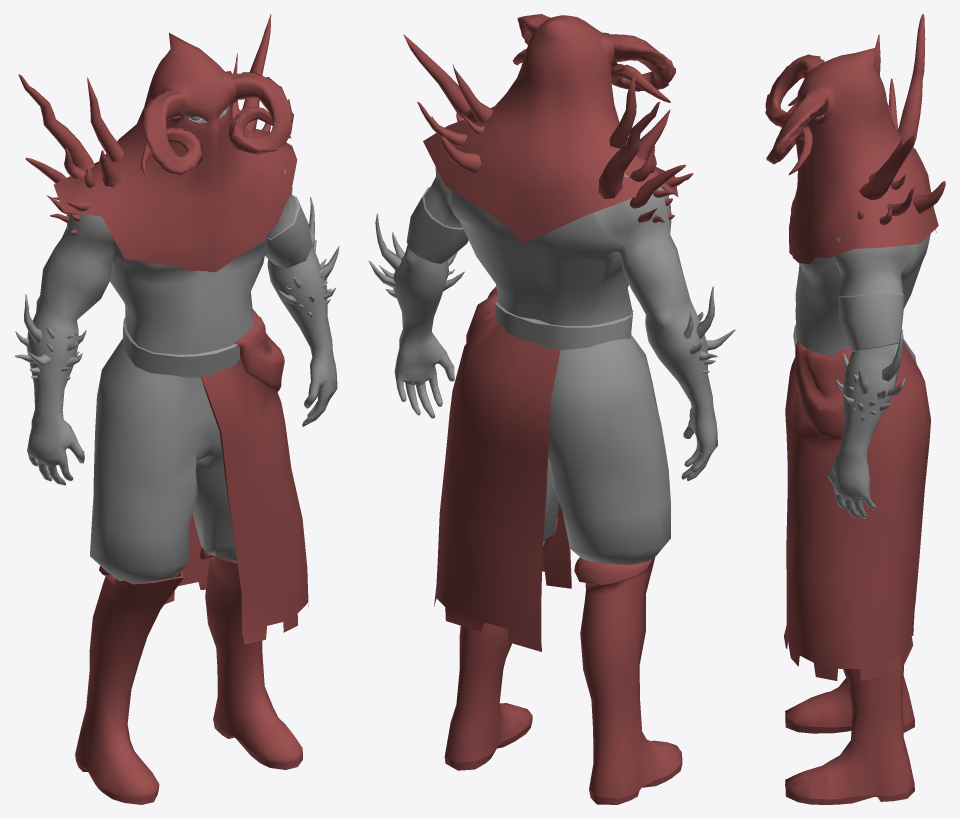
The picture shows the model from 3 angles, left to right: view 1: azimuth 30°, elevation 25°; view 2: azimuth 150°, elevation 25°; view 3: azimuth 270°, elevation 25°; orthographic projection. The views are drawn at different scales.
Parts seen in each view (by area): view 1: Body_LP, Hood_LP, Boot_LP, Skirt_LP, Horn_LP, Spikes_LP; view 2: Body_LP, Skirt_LP, Hood_LP, Boot_LP, Spikes_LP, Horn_LP; view 3: Skirt_LP, Hood_LP, Body_LP, Boot_LP, Spikes_LP, Horn_LP.
Part boxes in pixels (<box>): Body_LP: <box>15,106,339,583</box>; Hood_LP: <box>53,33,297,272</box>; Boot_LP: <box>75,547,302,804</box>; Skirt_LP: <box>165,309,308,644</box>; Horn_LP: <box>140,72,293,175</box>; Spikes_LP: <box>18,14,285,235</box>; Body_LP: <box>368,167,735,564</box>; Skirt_LP: <box>434,286,571,651</box>; Hood_LP: <box>423,15,678,243</box>; Boot_LP: <box>444,518,682,804</box>; Spikes_LP: <box>403,34,693,222</box>; Horn_LP: <box>512,14,675,102</box>; Skirt_LP: <box>784,341,930,680</box>; Hood_LP: <box>789,47,938,263</box>; Body_LP: <box>793,91,930,518</box>; Boot_LP: <box>785,655,914,804</box>; Spikes_LP: <box>857,14,945,236</box>; Horn_LP: <box>765,54,828,174</box>.
Size of the model in its own units: 244 by 525 by 121.
